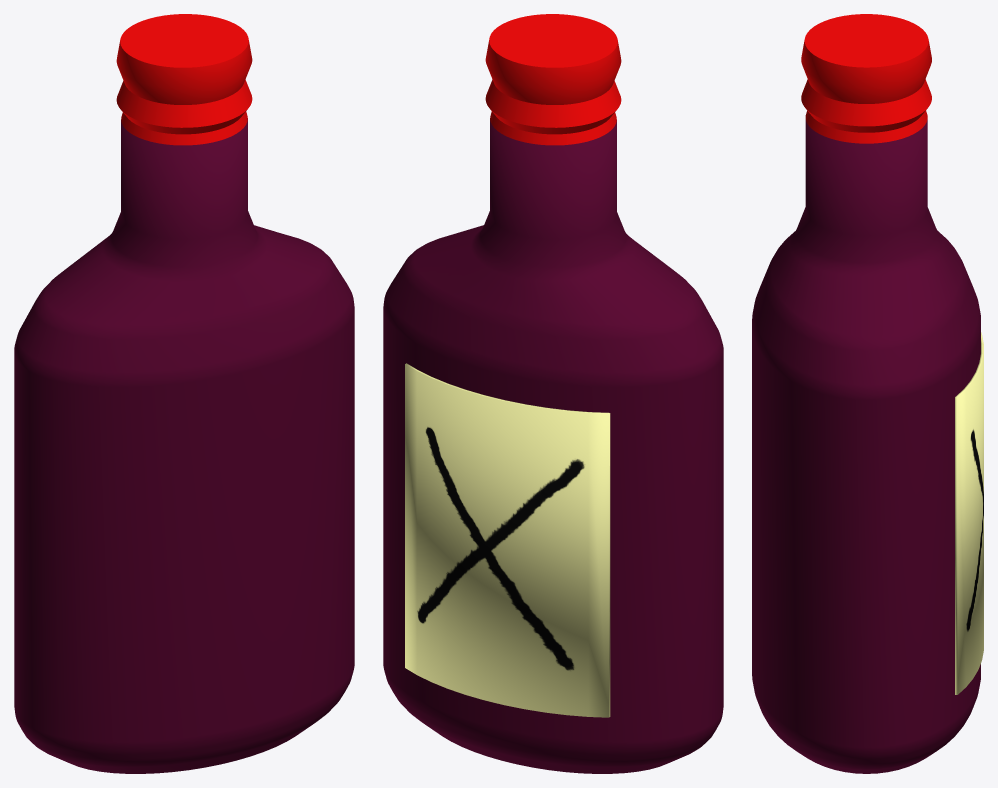
File: Botella_Ron.fbx
3 views of the same model, side by side, from view 1: azimuth 30°, elevation 25°; view 2: azimuth 150°, elevation 25°; view 3: azimuth 270°, elevation 25° (orthographic). The views are drawn at different scales.
Parts seen in each view (by area): view 1: Botella4, Tapon4; view 2: Botella4, pegatina.004, Tapon4; view 3: Botella4, Tapon4, pegatina.004.
Boxes of the visible parts, bbox=[...] form: Botella4: bbox=[14, 119, 354, 773]; Tapon4: bbox=[116, 14, 252, 145]; Botella4: bbox=[383, 119, 723, 773]; pegatina.004: bbox=[405, 363, 610, 717]; Tapon4: bbox=[485, 14, 621, 145]; Botella4: bbox=[752, 119, 980, 773]; Tapon4: bbox=[801, 14, 931, 143]; pegatina.004: bbox=[955, 332, 983, 694].
Size of the model in its own units: 11.92 by 24.55 by 7.63.
Materials: 3 (1 with a texture image).
